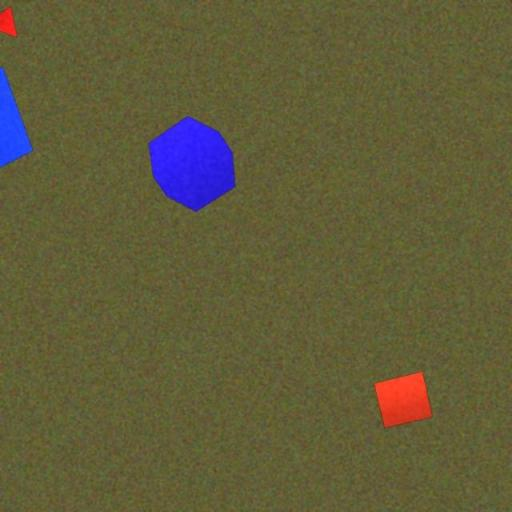RED_SQUARE: (374, 371, 434, 430)
